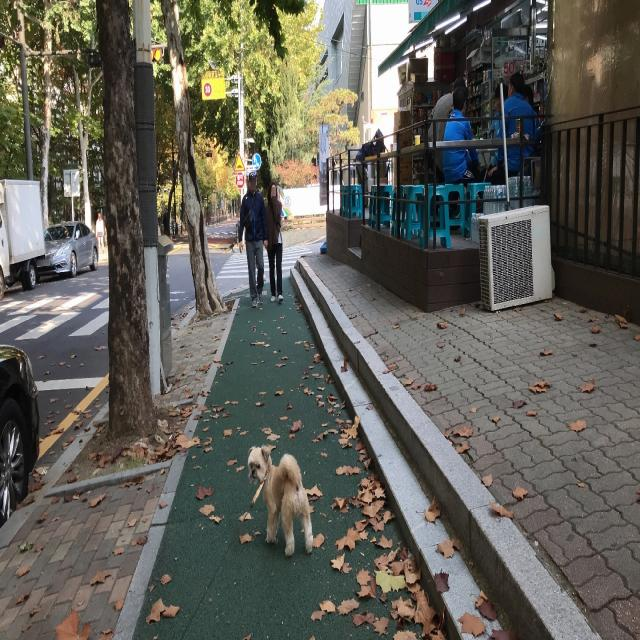횡단보도: (215, 244, 313, 280)
